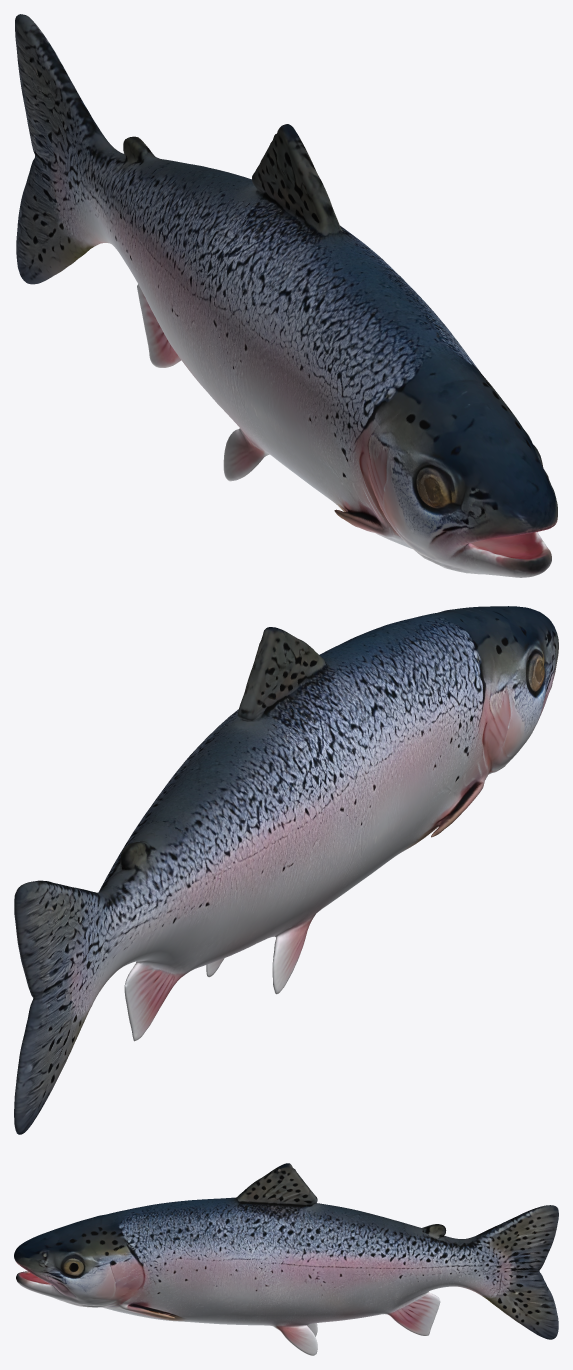
Rendered from salmon-v166.glb.
The picture shows the model from 3 angles, top to bottom: view 1: azimuth 30°, elevation 25°; view 2: azimuth 150°, elevation 25°; view 3: azimuth 270°, elevation 25°; orthographic projection. The views are drawn at different scales.
Parts seen in each view (by area): view 1: model; view 2: model; view 3: model.
Boxes of the visible parts, left/top/right/bottom form: model: left=15, top=14, right=557, bottom=577; model: left=14, top=606, right=558, bottom=1134; model: left=14, top=1163, right=558, bottom=1355.
Size of the model in its own units: 0.1366 by 0.3142 by 0.85.
1 material, 1 textured.
